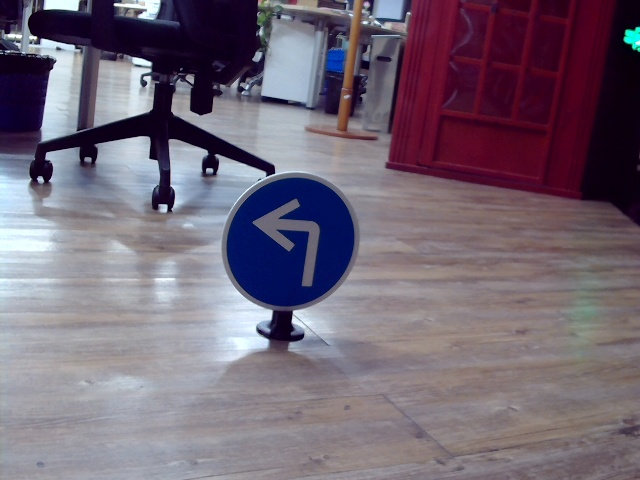turn_left: (253, 197, 322, 290)
